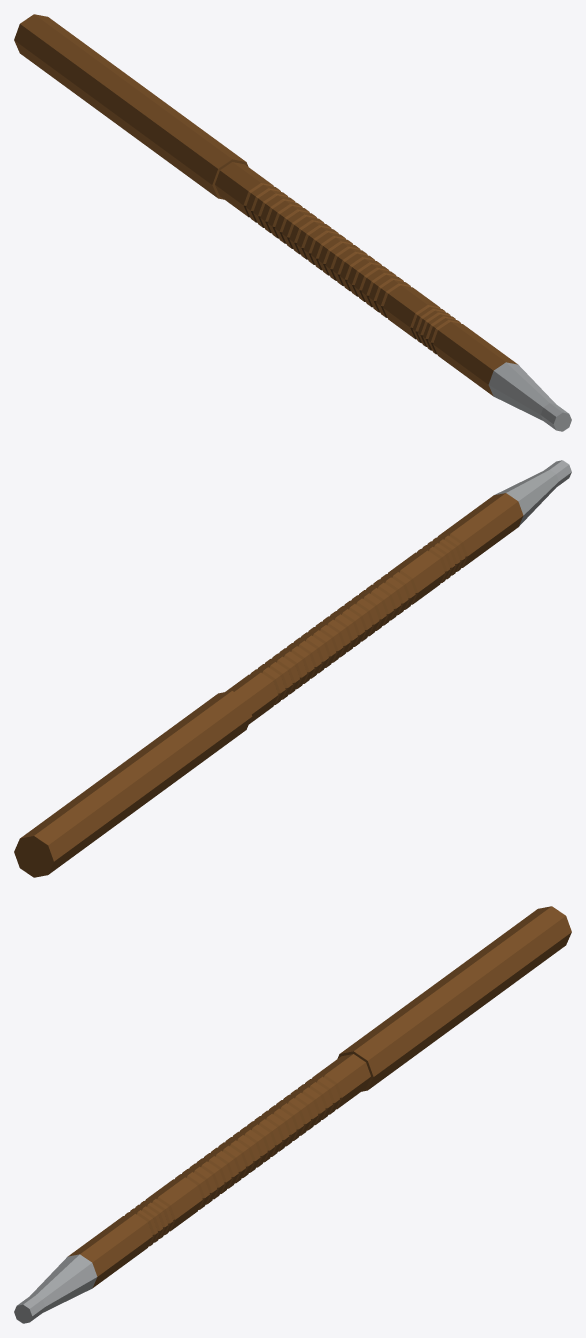
The picture shows the model from 3 angles, top to bottom: view 1: azimuth 30°, elevation 25°; view 2: azimuth 150°, elevation 25°; view 3: azimuth 330°, elevation 25°; orthographic projection.
Visible parts, largest first — view 1: og7v; view 2: og7v; view 3: og7v.
Part boxes in pixels (x1=…): og7v: x1=14, y1=14, x2=571, y2=431; og7v: x1=14, y1=460, x2=571, y2=877; og7v: x1=14, y1=906, x2=571, y2=1323.
Bounding box in the file's own units: 0.0407 × 0.0407 × 0.9304.
1 material, 1 textured.
